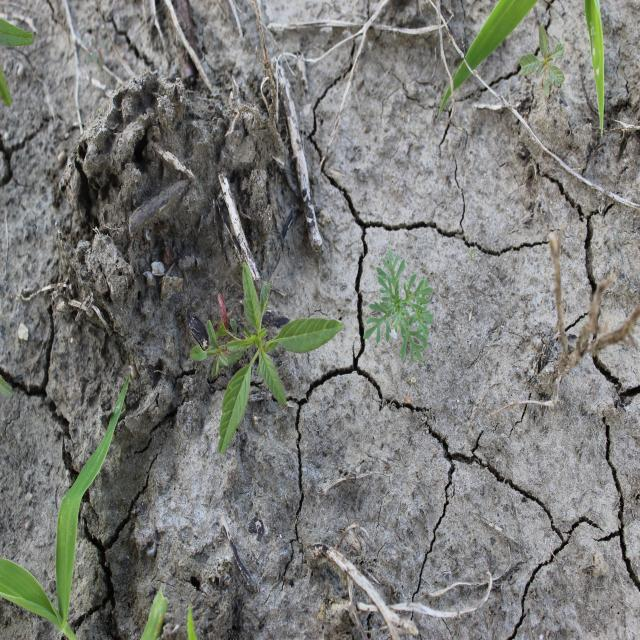Ragweed: (363, 247, 435, 366)
Waterhemp: (188, 260, 345, 455), (516, 22, 566, 99)
